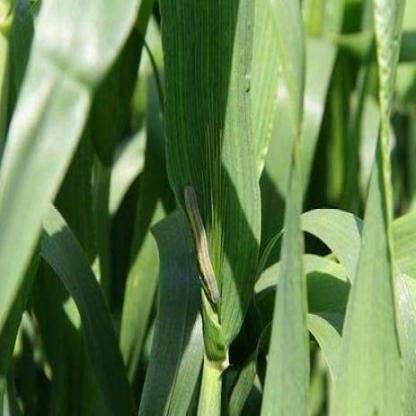sawfly: (181, 179, 227, 318)
